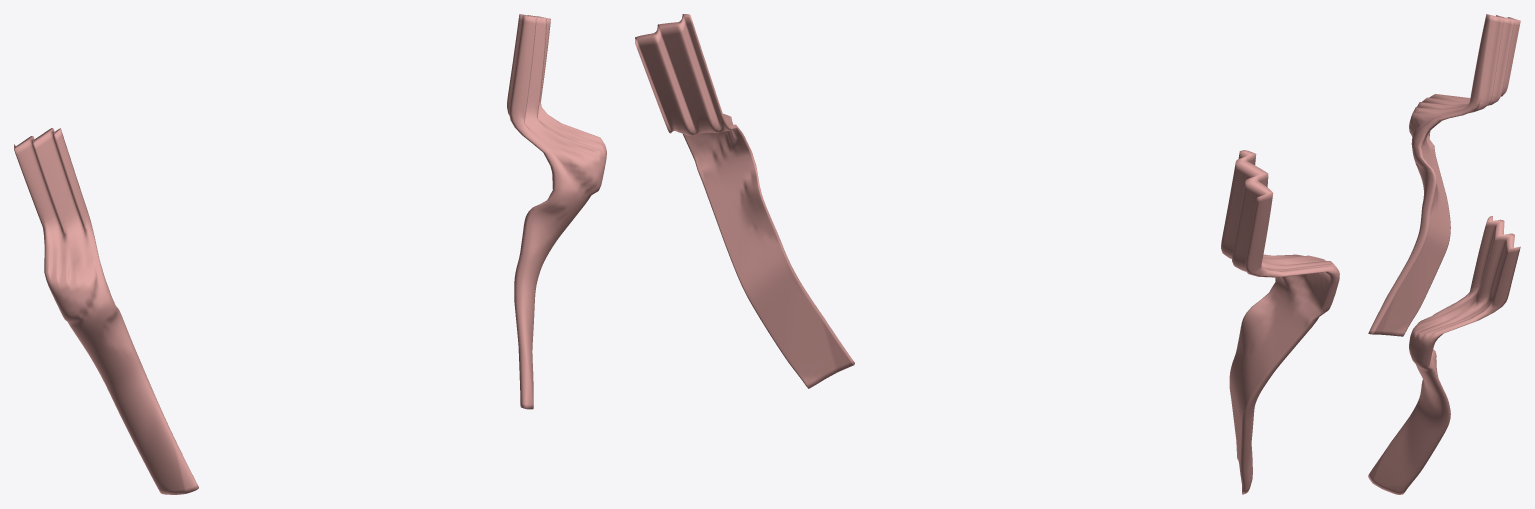
Rendered from zygomaticus_minor.glb.
3 views of the same model, side by side, from view 1: azimuth 30°, elevation 25°; view 2: azimuth 150°, elevation 25°; view 3: azimuth 270°, elevation 25° (orthographic). The views are drawn at different scales.
Parts seen in each view (by area): view 1: zygomaticus_minor_R, zygomaticus_minor_L; view 2: zygomaticus_minor_L, zygomaticus_minor_R; view 3: zygomaticus_minor_R, zygomaticus_minor_L.
Boxes of the visible parts, box(x1,y1,x2,y2) form: zygomaticus_minor_R: box(14, 128, 198, 494); zygomaticus_minor_L: box(507, 14, 606, 409); zygomaticus_minor_L: box(635, 14, 854, 388); zygomaticus_minor_R: box(1221, 150, 1339, 494); zygomaticus_minor_R: box(1368, 14, 1520, 336); zygomaticus_minor_L: box(1368, 216, 1520, 494).
Bounding box in the file's own units: 0.078 × 0.0452 × 0.0209.
